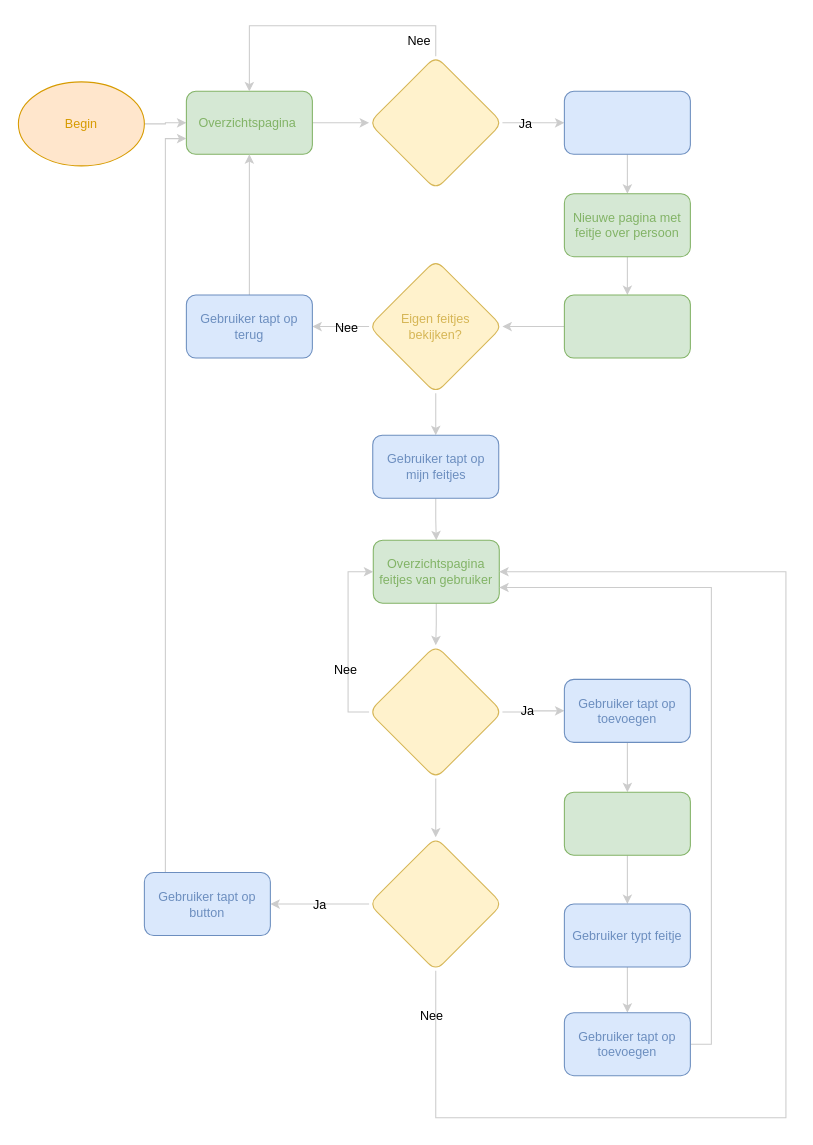
Some shapes in this 813 by 1145 pixel diagram are drawn without their labels. Each missing label, with the centre of its shape:
Detailpagina: the point at 626,823
Feitje toevoegen?: the point at 435,711
Feitje unlocken?: the point at 435,122
Gebruiker swipet op unlocken: the point at 626,122
Terug naar unlockpagina?: the point at 435,903
Voortgangsbalk gaat omhoog: the point at 626,326
